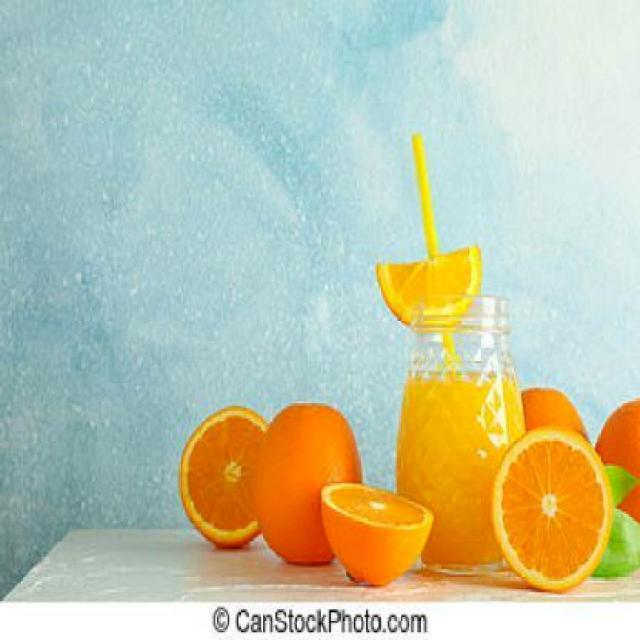Jeruk Sudah Matang: (252, 398, 363, 567), (494, 380, 594, 525), (590, 395, 638, 548)
